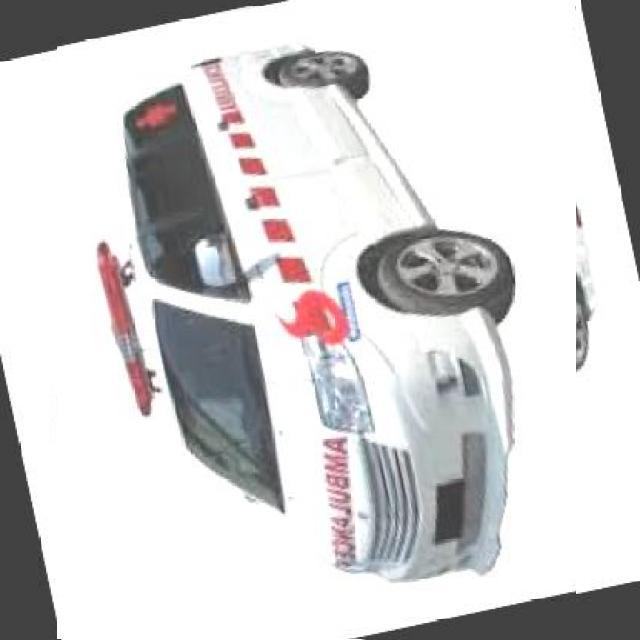emergency-vehicle: (28, 34, 606, 610)
